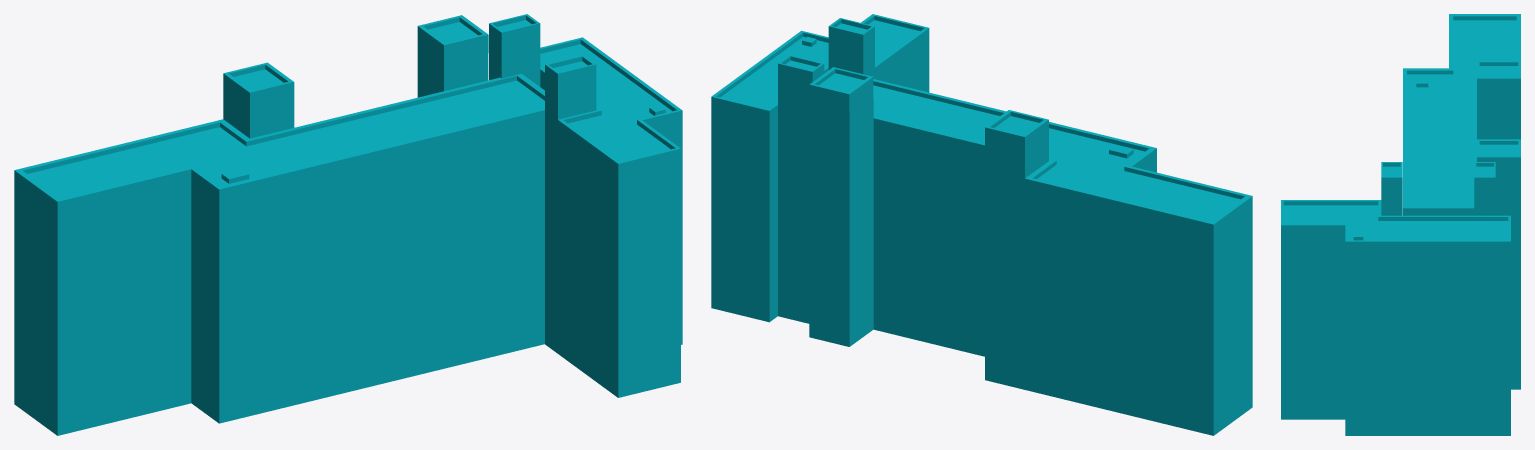
File: student9.FBX
3 views of the same model, side by side, from view 1: azimuth 30°, elevation 25°; view 2: azimuth 150°, elevation 25°; view 3: azimuth 270°, elevation 25° (orthographic). The views are drawn at different scales.
Visible parts, largest first — view 1: 学生公寓9; view 2: 学生公寓9; view 3: 学生公寓9.
Boxes of the visible parts, x1=… form: 学生公寓9: x1=14, y1=14, x2=682, y2=435; 学生公寓9: x1=711, y1=14, x2=1252, y2=435; 学生公寓9: x1=1281, y1=14, x2=1520, y2=435.
Bounding box in the file's own units: 34.47 × 16.39 × 15.35.
